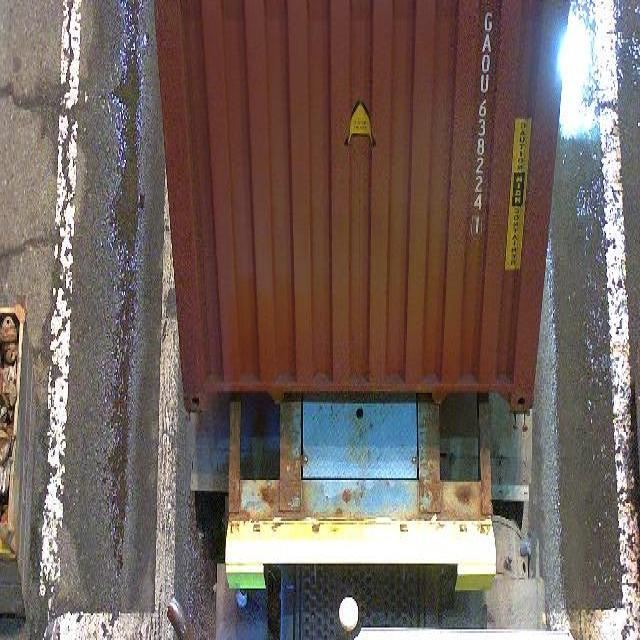container_number: (473, 3, 497, 236)
